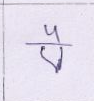ai_matra: (44, 25, 65, 43)
